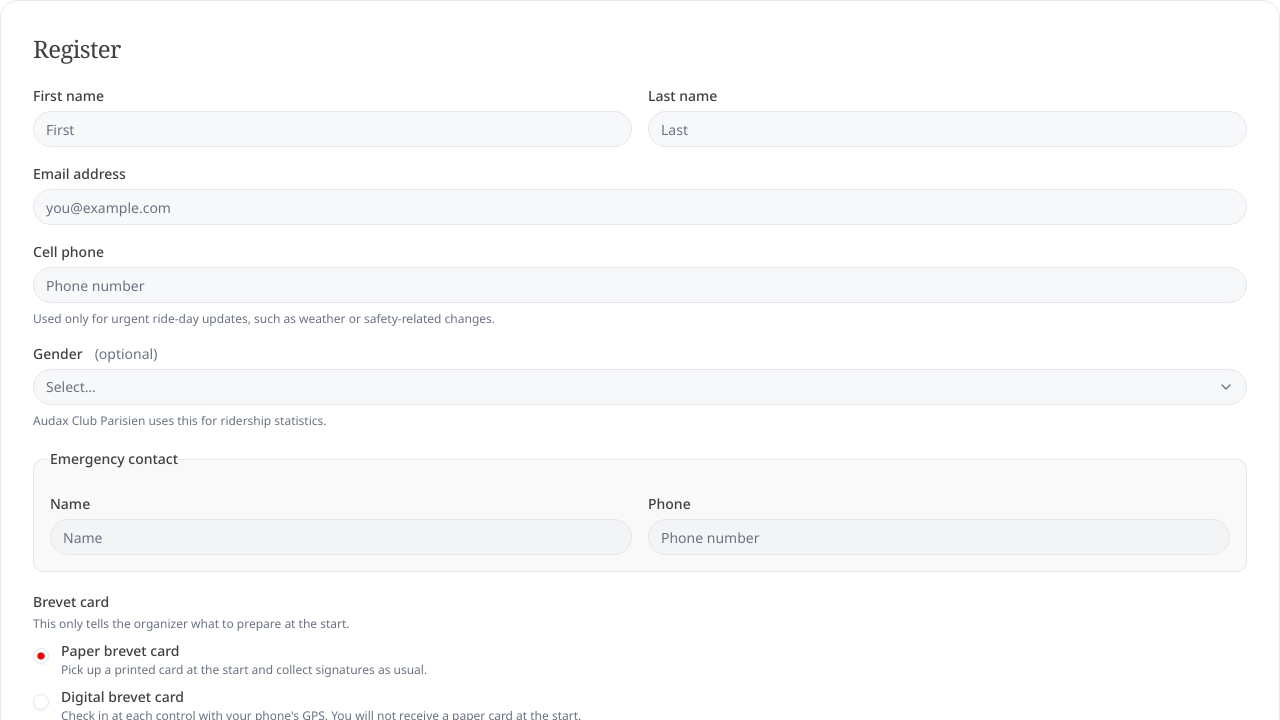
RegistrationForm › loading states › disables submit button while pending
The image size is (1280, 720).
Type "John" into the field labelled "First name" at (332, 129), box [33,111,632,147]
Type "Doe" into the field labelled "Last name" at (948, 129), box [648,111,1247,147]
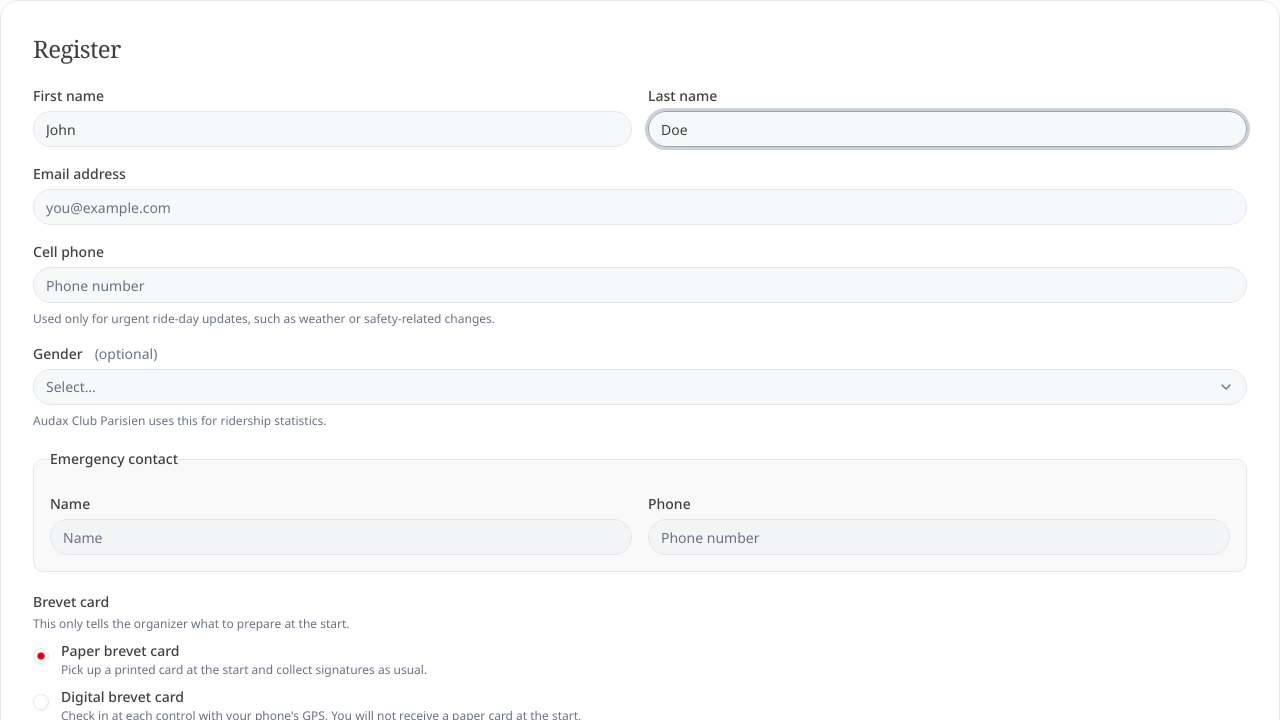
Type "john@example.com" into the field labelled "Email address" at (640, 207), box [33,189,1247,225]
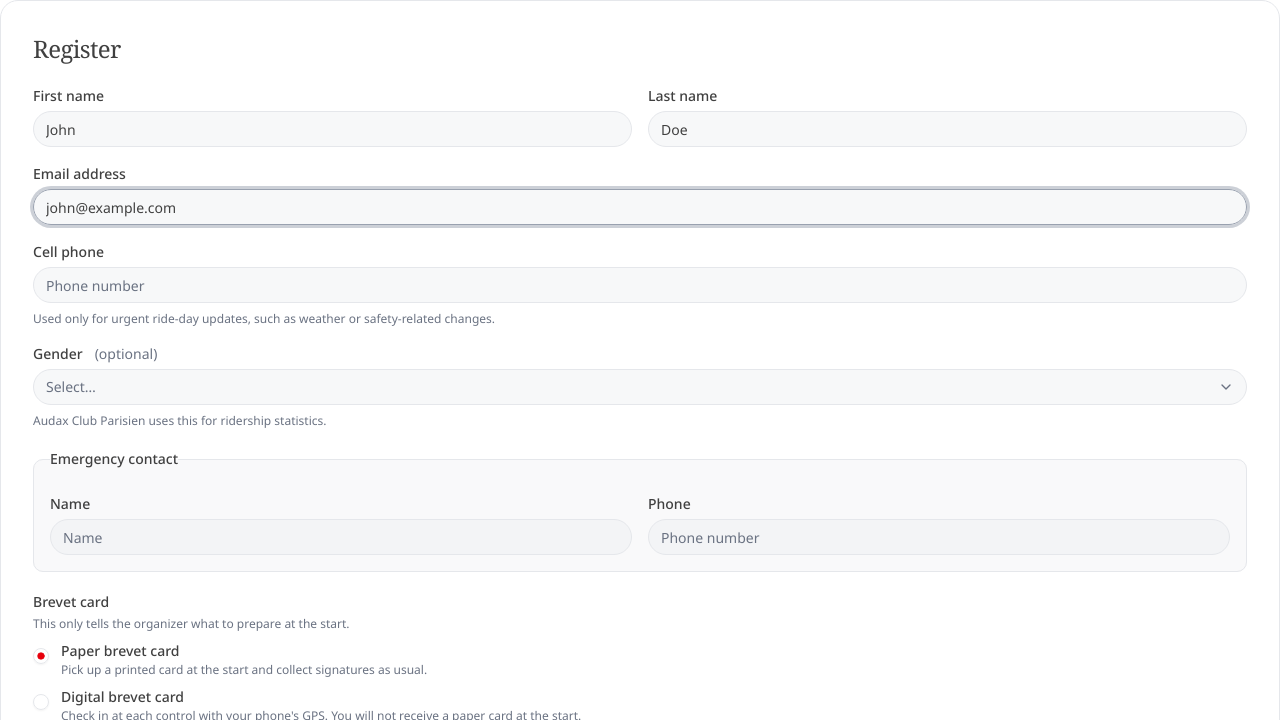
Type "Jane Doe" into the field with id "emergencyContactName" at (341, 537), box [50,519,632,555]
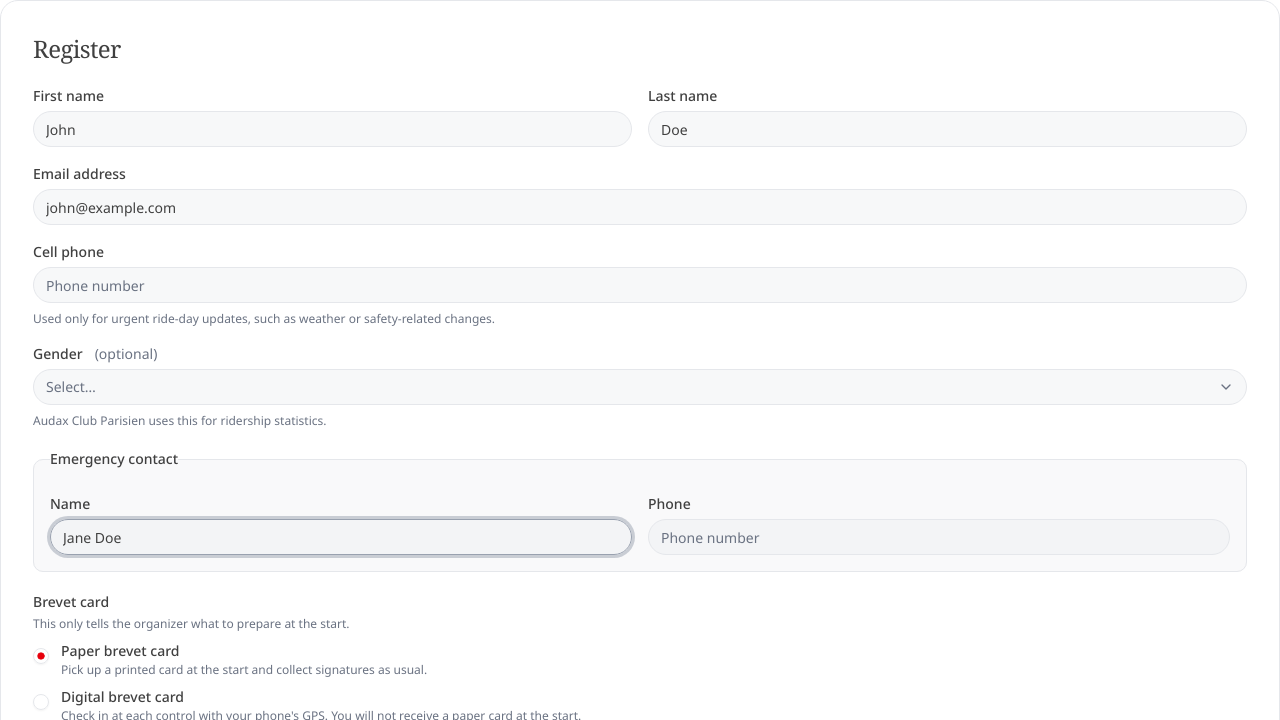
Type "555-1234" into the field with id "emergencyContactPhone" at (939, 537), box [648,519,1230,555]
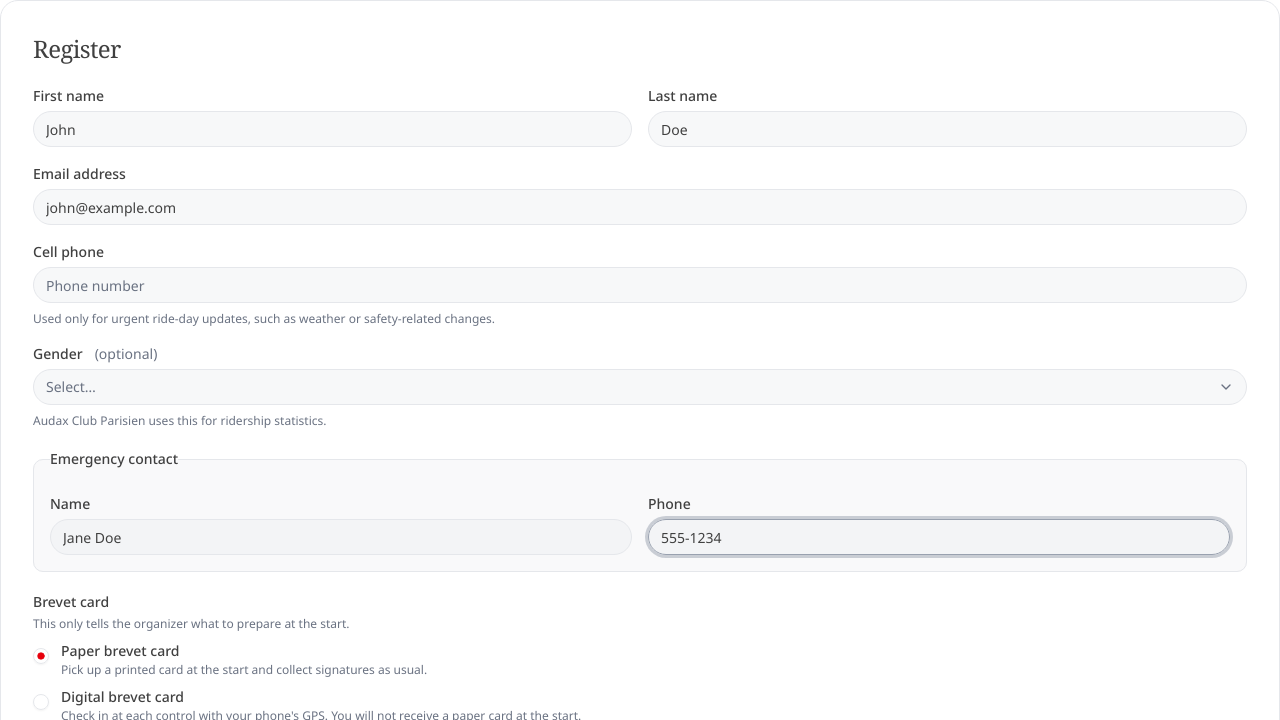
Type "416-555-9999" into the field labelled "Cell phone" at (640, 285), box [33,267,1247,303]
(page scrolled)
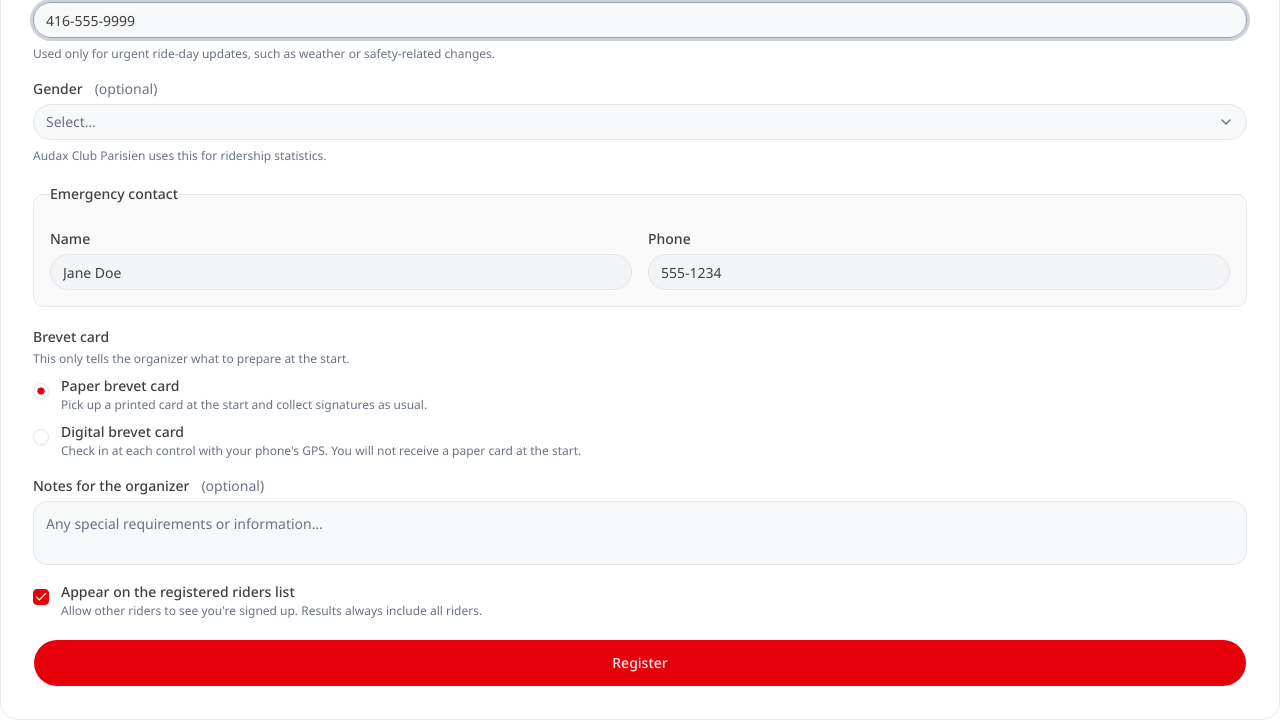
Click the button "Register" at (640, 663), box [33,639,1247,687]
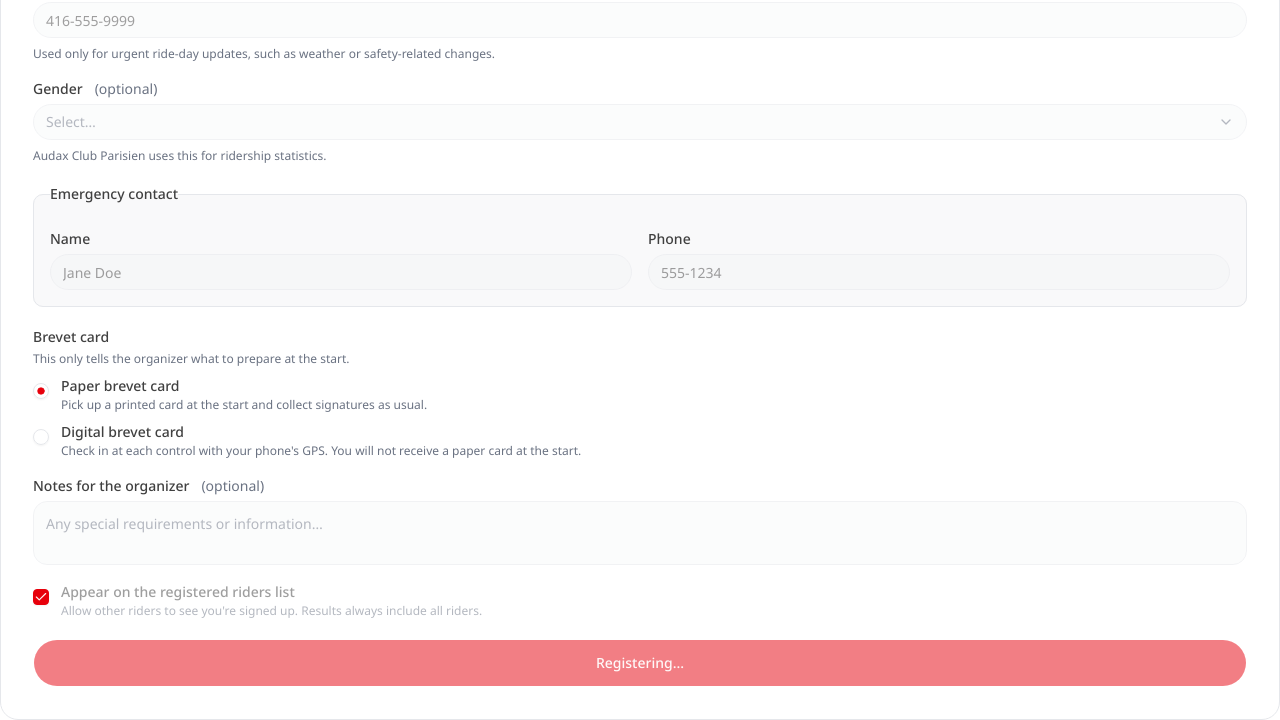
Check: the button "Registering…" is disabled, box [33,639,1247,687]
